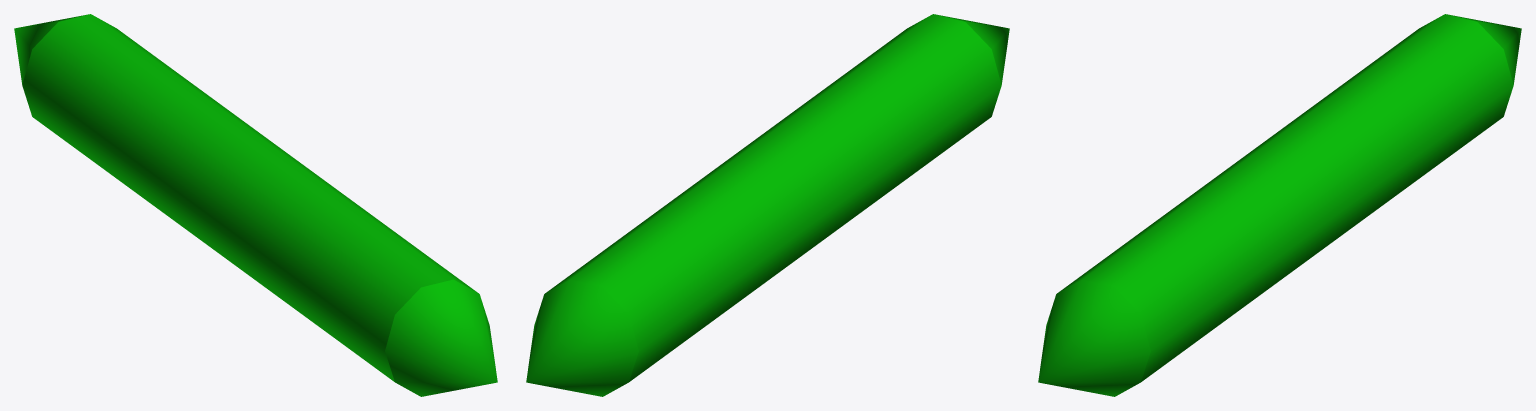
The model's file is EnemyLaser.fbx.
The picture shows the model from 3 angles, left to right: view 1: azimuth 30°, elevation 25°; view 2: azimuth 150°, elevation 25°; view 3: azimuth 330°, elevation 25°; orthographic projection.
Visible parts, largest first — view 1: Cylinder; view 2: Cylinder; view 3: Cylinder.
Boxes of the visible parts, x1=… form: Cylinder: x1=14, y1=14, x2=497, y2=396; Cylinder: x1=526, y1=14, x2=1009, y2=396; Cylinder: x1=1038, y1=14, x2=1521, y2=396.
Size of the model in its own units: 0.0197 by 0.0197 by 0.1575.
